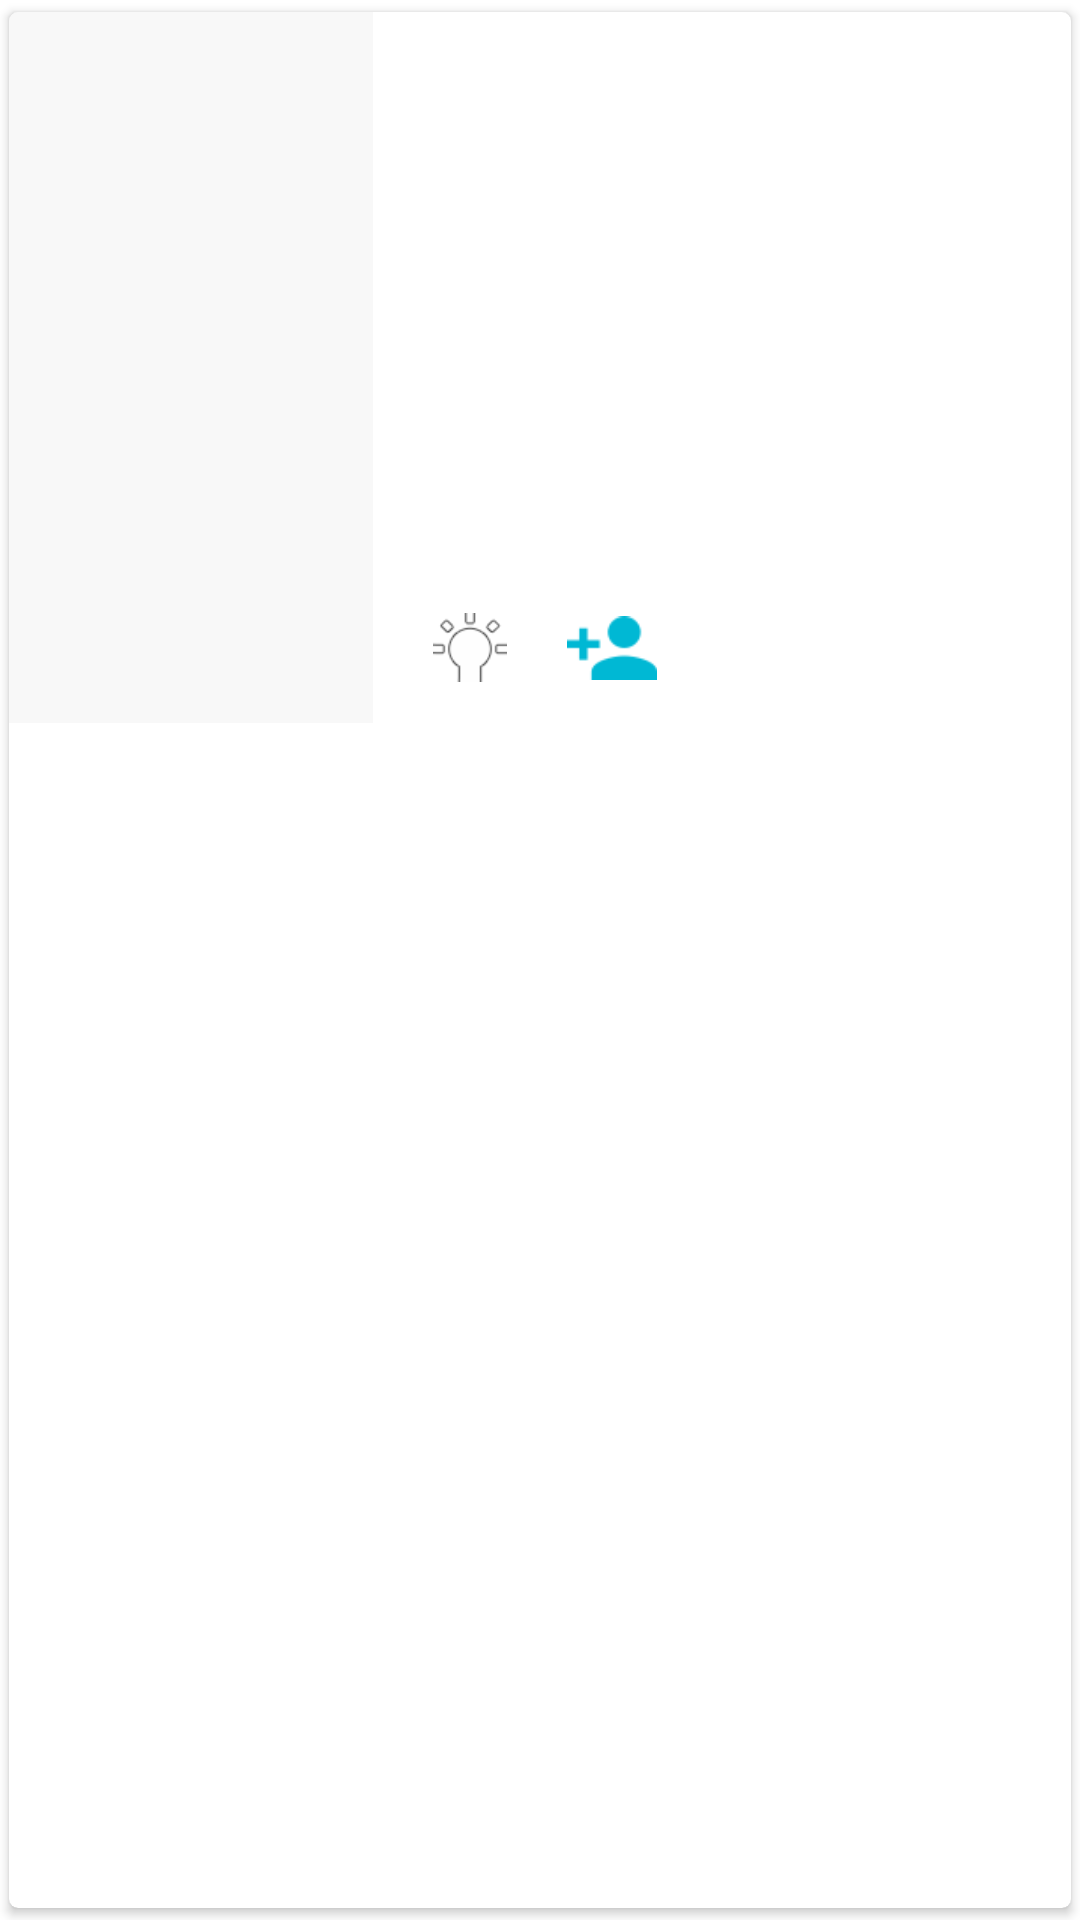

Where icons sit on this 1080 × 1920 app screen, as box(x1, y1, x2, y2):
follow: box(567, 616, 657, 680)
